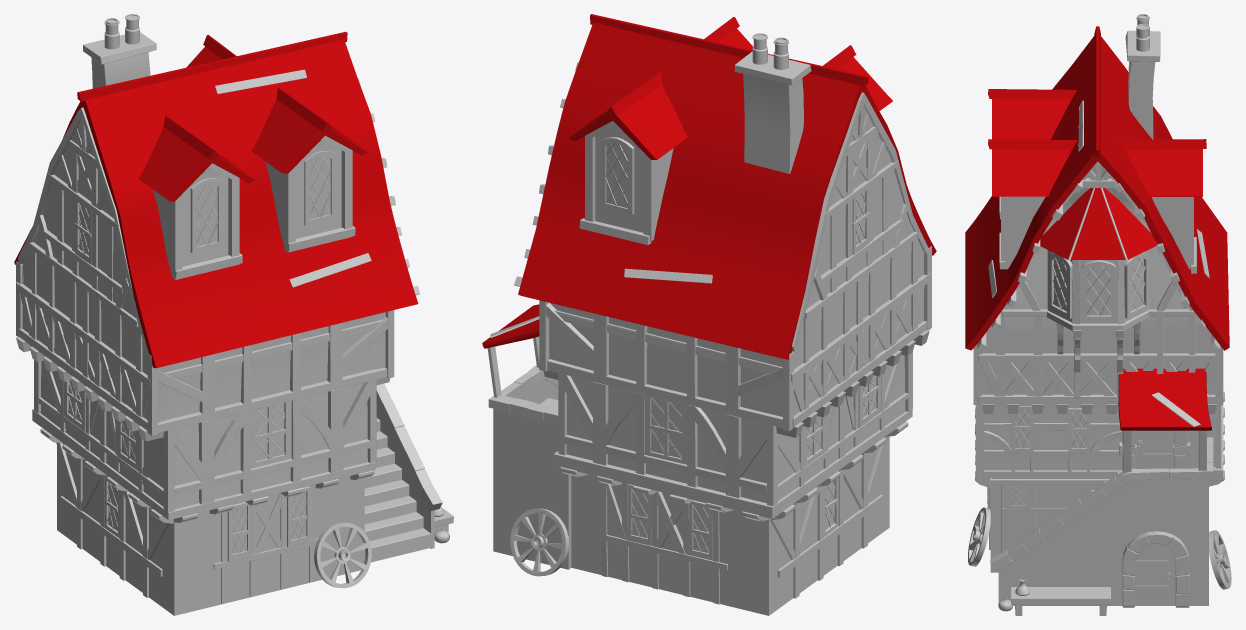
3 views of the same model, side by side, from view 1: azimuth 30°, elevation 25°; view 2: azimuth 150°, elevation 25°; view 3: azimuth 270°, elevation 25° (orthographic). The views are drawn at different scales.
Visible parts, largest first — view 1: Kledning, Hus, Tak; view 2: Kledning, Hus, Tak; view 3: Hus, Tak, Kledning.
Boxes of the visible parts, left/top/right/bottom form: Kledning: left=16, top=69, right=419, bottom=604; Hus: left=22, top=14, right=453, bottom=615; Tak: left=14, top=31, right=418, bottom=368; Kledning: left=487, top=62, right=931, bottom=604; Hus: left=488, top=33, right=923, bottom=615; Tak: left=482, top=14, right=936, bottom=359; Hus: left=968, top=14, right=1231, bottom=615; Tak: left=965, top=26, right=1229, bottom=430; Kledning: left=973, top=100, right=1223, bottom=552.
Size of the model in its own units: 770 by 1193 by 593.
